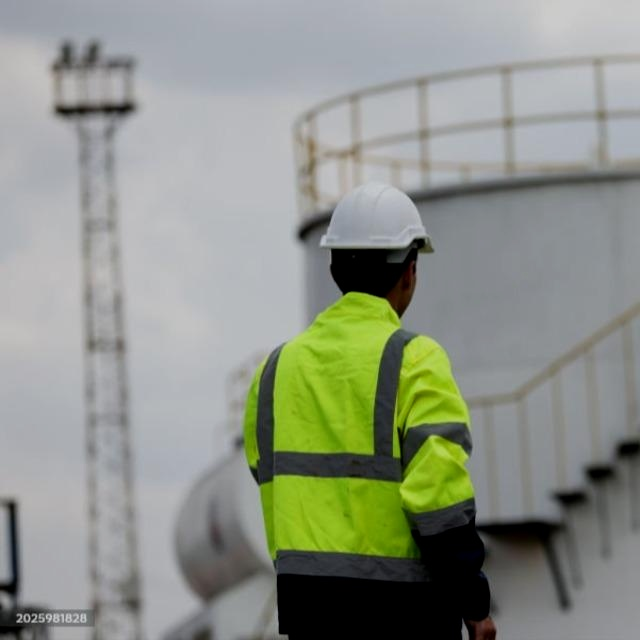Con_Casco: (320, 182, 438, 314)
Con_Chaleco: (249, 295, 467, 619)
